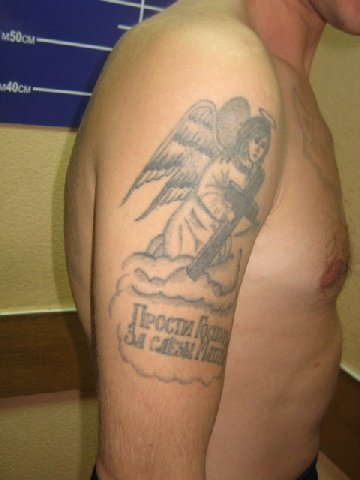tatu1_angel: (118, 92, 277, 301)
tatu3_bukva: (118, 301, 232, 377)
